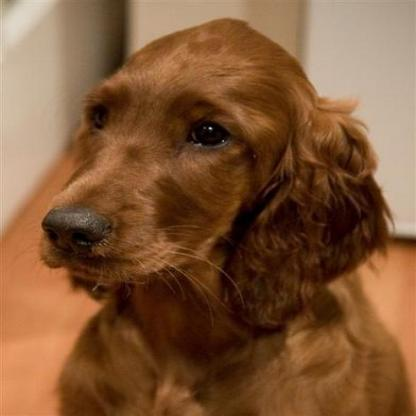Irish_setter: (0, 15, 413, 414)
